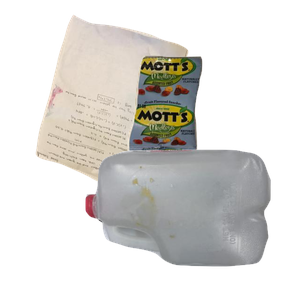glass: (90, 148, 300, 300)
paper: (33, 12, 214, 192)
plastic: (83, 147, 300, 300)
trash: (125, 53, 300, 201)
